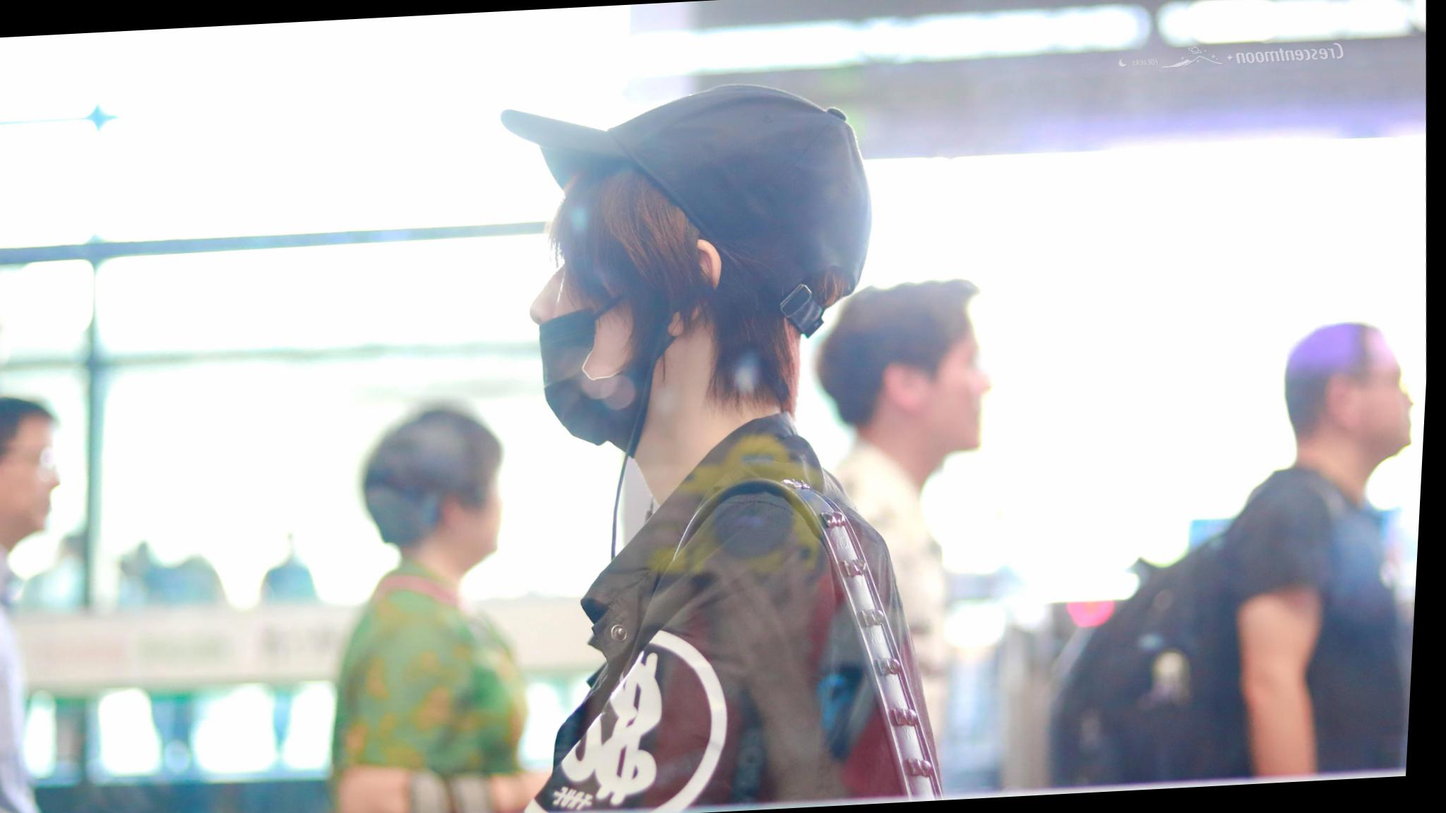NONE: (926, 329, 1002, 454), (1359, 338, 1430, 458), (9, 433, 75, 539)
WRONG: (522, 208, 644, 450)
